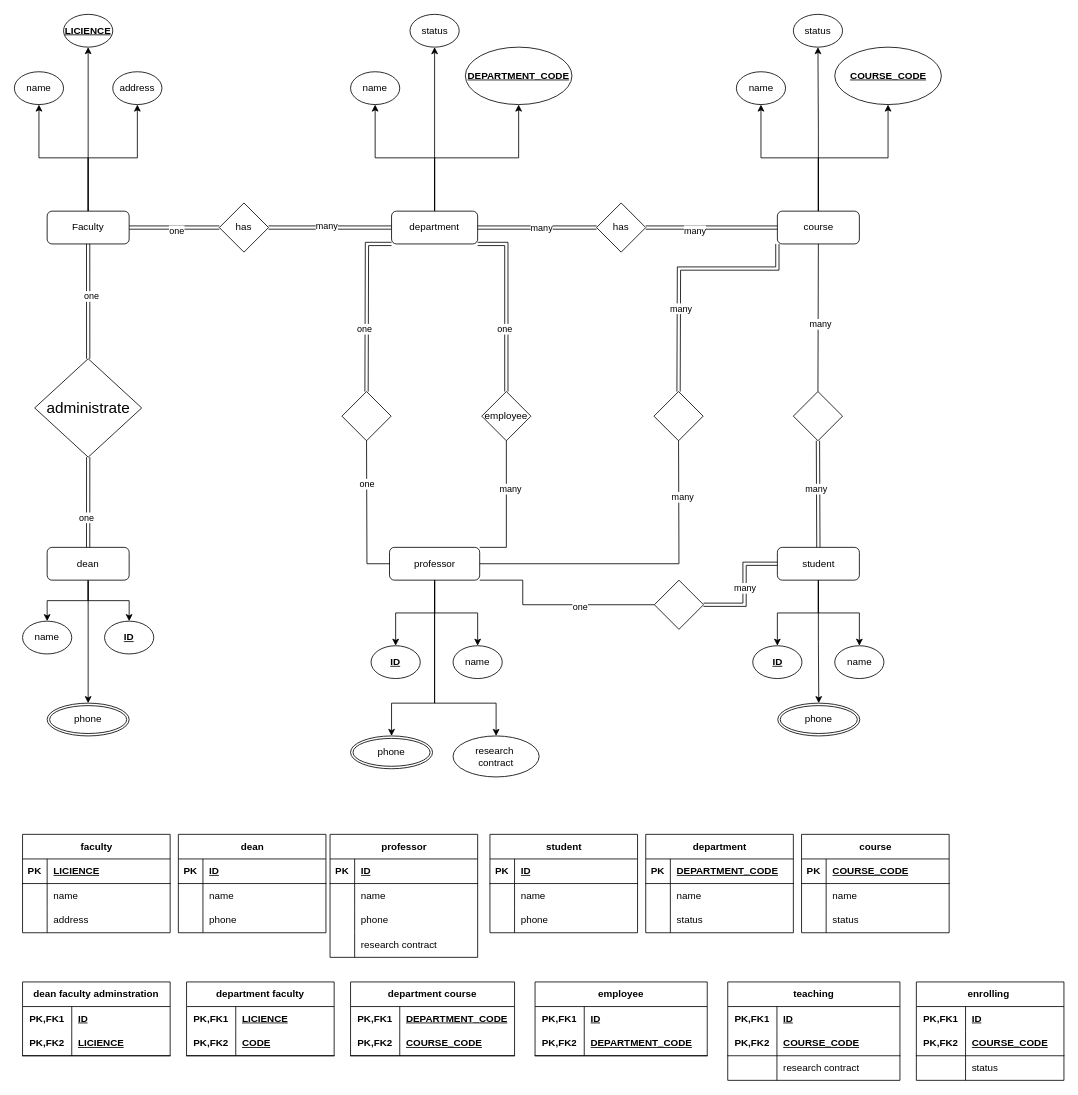
Image size: 1078x1095. Some labels were removed from this diagram. The shapes that lost their labels are listed below. From the top down, each one's centre as x and y in pixels, then its label:
At (x=366, y=416): "chair".
At (x=678, y=416): "teach".
At (x=818, y=416): "enroll".
At (x=679, y=604): "advise".
